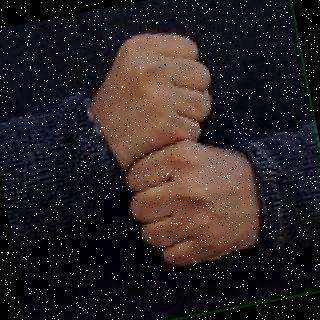G: (83, 14, 274, 287)
